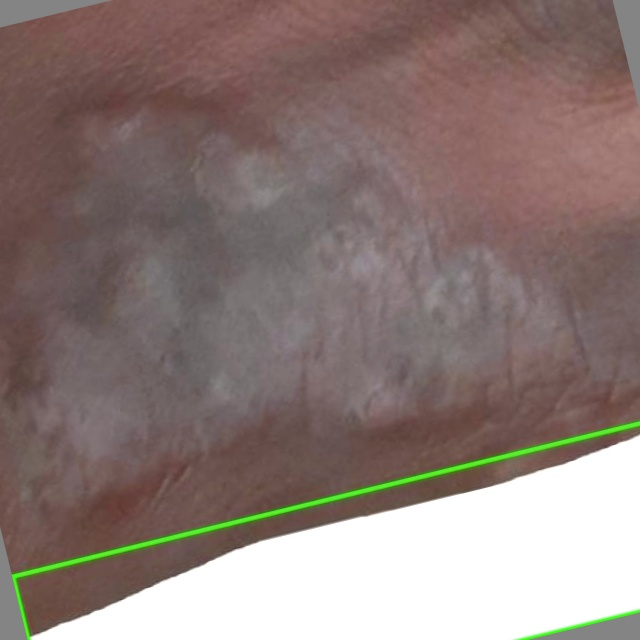Seborrheic Dermatitis: (12, 422, 639, 639)
